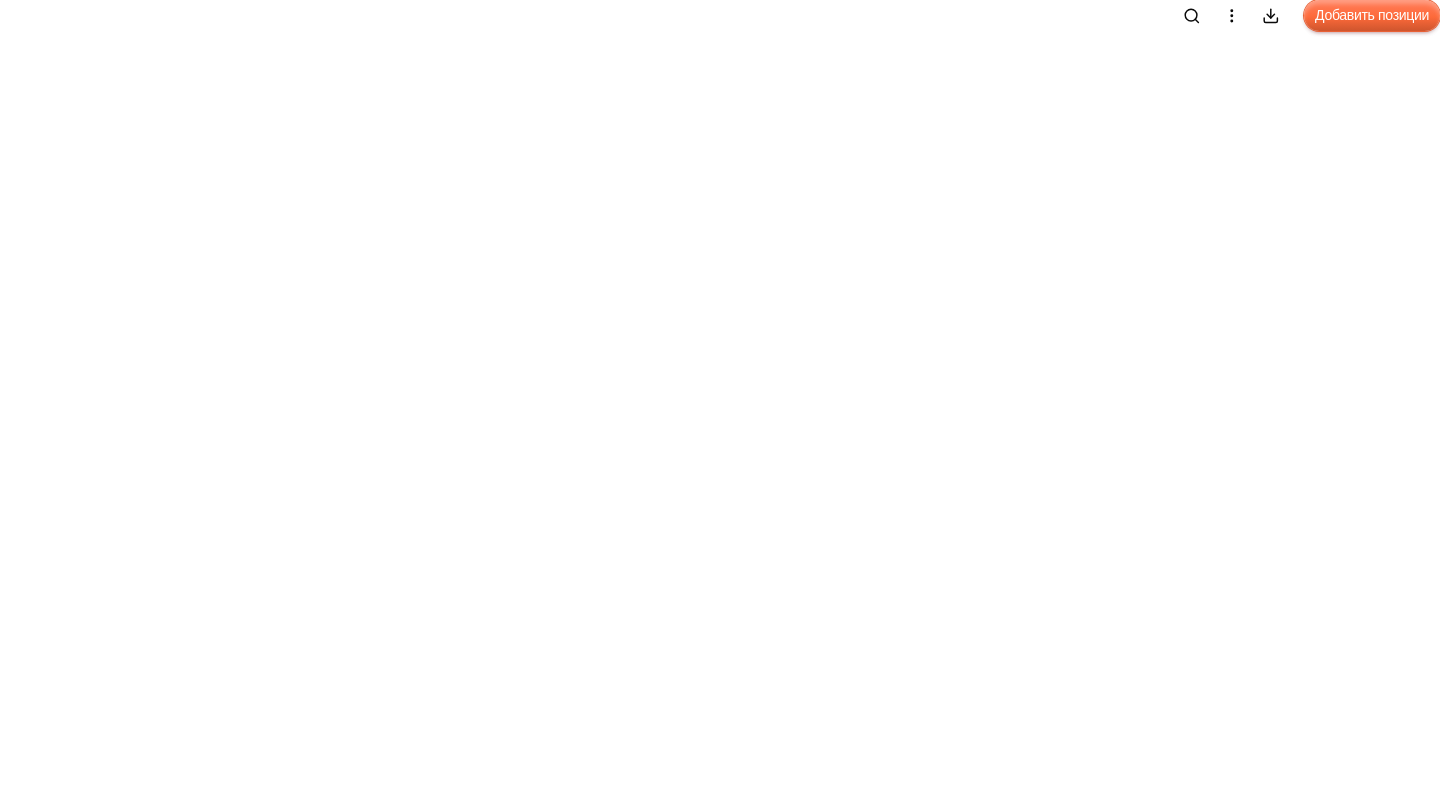
SortPopover (inside mobile overflow) › sort button is reachable via overflow menu
Click the button named "Ещё" at (1232, 15), box [1216,0,1247,31]
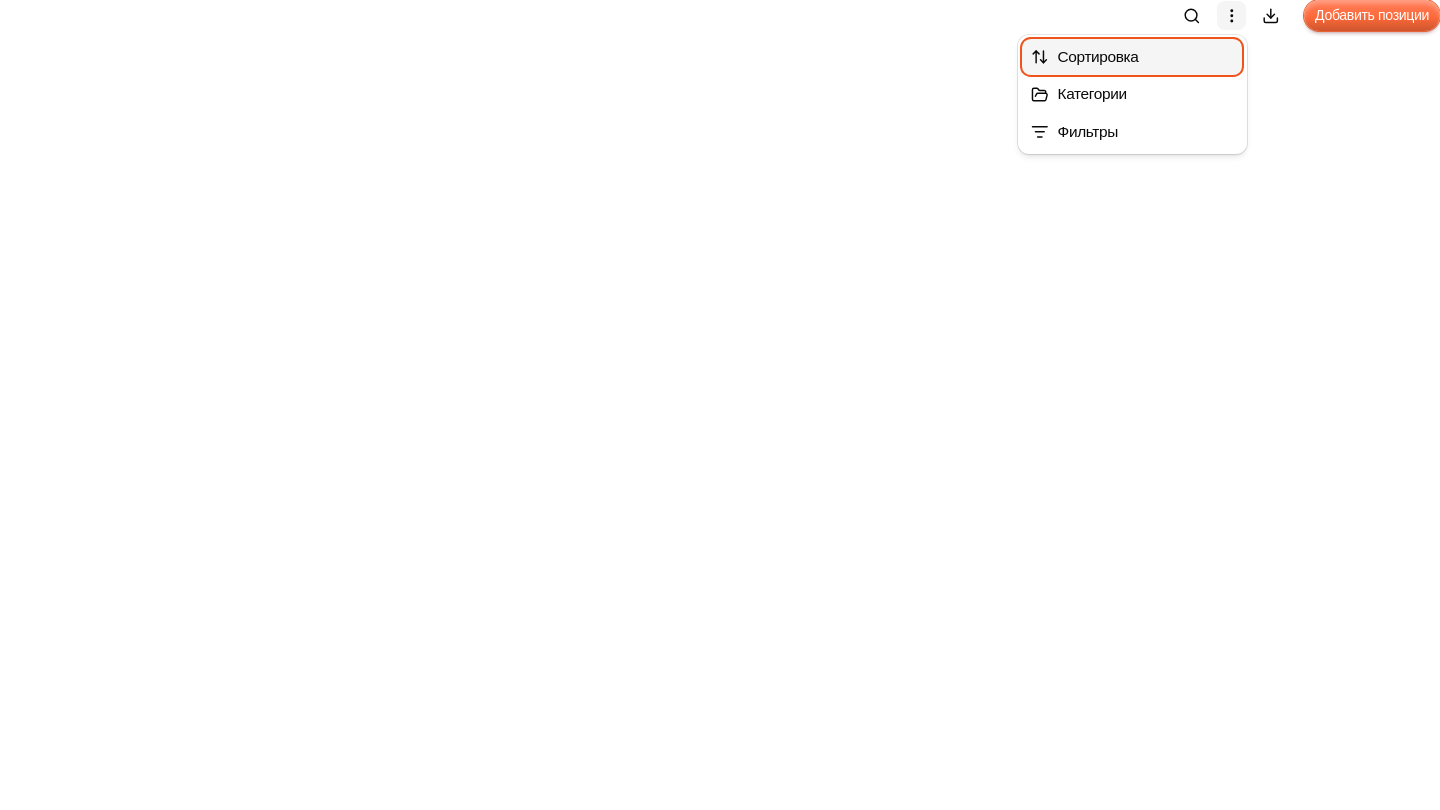
Expected: the button "Сортировка" is shown, [1022,39,1242,75]
